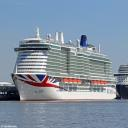cruises: (10, 26, 120, 103)
